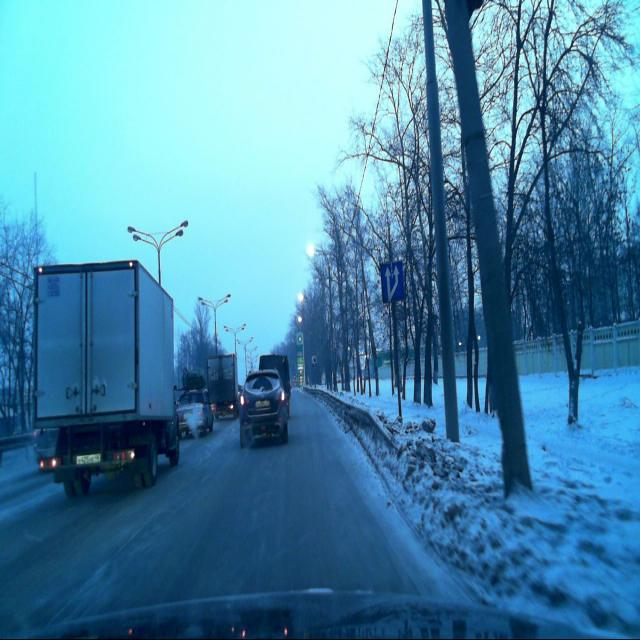object: (393, 305, 403, 420)
road sign: (382, 261, 405, 305)
